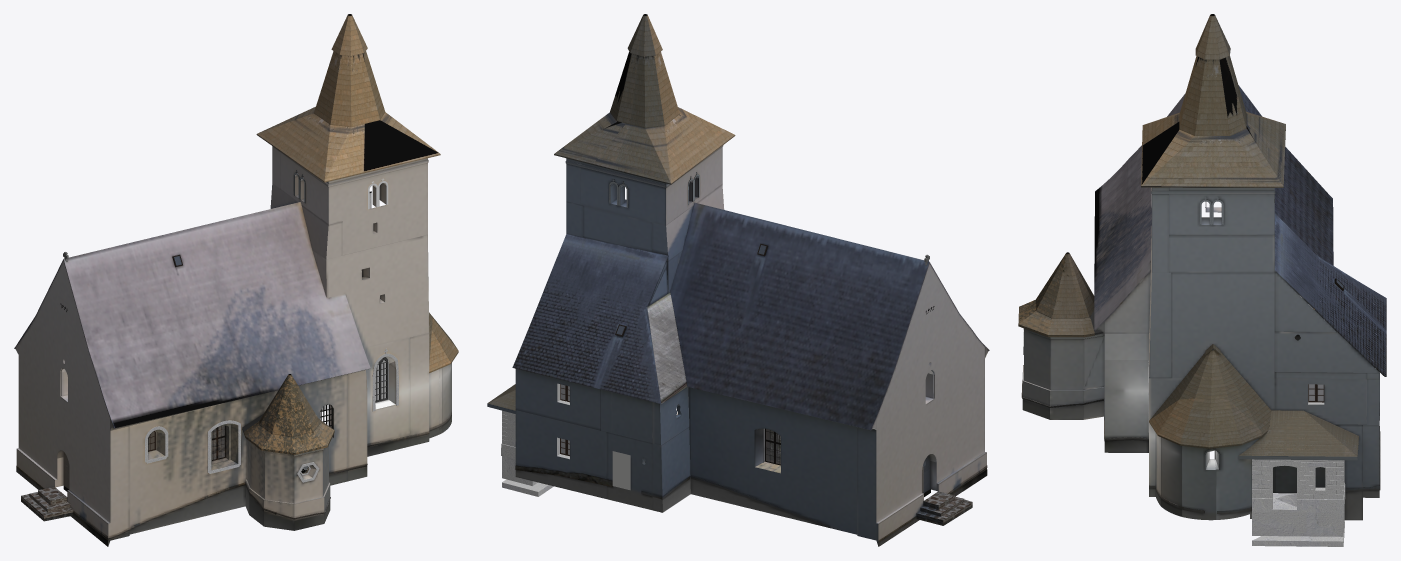
The picture shows the model from 3 angles, left to right: view 1: azimuth 30°, elevation 25°; view 2: azimuth 150°, elevation 25°; view 3: azimuth 270°, elevation 25°; orthographic projection. The views are drawn at different scales.
Visible parts, largest first — view 1: Fasada, Basic Roof _Obecná plochá střecha 60 asfaltová [1240019], Basic Roof _Obecná plochá střecha 50 dřevěná [1138108], Basic Roof _Obecná plochá střecha 50 dřevěná [1138109], Basic Roof _Obecná plochá střecha 100 dřevěná [851158], Basic Roof _Obecná plochá střecha 100 dřevěná [843459], Podezdivka, Basic Wall _Obecná stěna nosná 1200 [552238], Vstupní kamenné schodiště Vstupní kamenné schodiště [888075], Basic Roof _Obecná plochá střecha 50 dřevěná [929359], Basic Roof _Obecná plochá střecha 50 dřevěná [1138110], Hlavni loď - okno_01, otvor, vpravo Hlavni loď - okno_01, ot; view 2: Fasada, Basic Roof _Obecná plochá střecha 60 asfaltová [1240019], Basic Roof _Obecná plochá střecha 60 asfaltová [1167460], Basic Roof _Obecná plochá střecha 50 dřevěná [1138108], Basic Roof _Obecná plochá střecha 50 dřevěná [1138109], Basic Roof _Obecná plochá střecha 60 asfaltová [1168498], Podezdivka, Vstupní kamenné schodiště Vstupní kamenné schodiště [888075], Basic Wall _Obecná stěna nosná 350 - vchod hrobka [664115], Basic Roof _Obecná plochá střecha 50 dřevěná [1138110], Basic Wall _Obecná stěna nosná 720 [1011005]; view 3: Fasada, Basic Roof _Obecná plochá střecha 60 asfaltová [1240019], Basic Roof _Obecná plochá střecha 50 dřevěná [1138108], Basic Roof _Obecná plochá střecha 50 dřevěná [929359], Basic Roof _Obecná plochá střecha 60 asfaltová [1167460], Basic Wall _Obecná stěna nosná 350 - vchod hrobka [664115], Basic Roof _Obecná plochá střecha 200 [764339], Basic Roof _Obecná plochá střecha 50 dřevěná [1138109], Basic Roof _Obecná plochá střecha 100 dřevěná [851158], Basic Roof _Obecná plochá střecha 100 dřevěná [843459], Basic Roof _Obecná plochá střecha 50 dřevěná [1138110], Podezdivka (+1 smaller).
Part boxes in pixels (<box>): Fasada: <box>15,146,451,546</box>; Basic Roof _Obecná plochá střecha 60 asfaltová [1240019]: <box>14,202,370,428</box>; Basic Roof _Obecná plochá střecha 50 dřevěná [1138108]: <box>256,106,440,182</box>; Basic Roof _Obecná plochá střecha 50 dřevěná [1138109]: <box>314,51,385,127</box>; Basic Roof _Obecná plochá střecha 100 dřevěná [851158]: <box>259,374,320,436</box>; Basic Roof _Obecná plochá střecha 100 dřevěná [843459]: <box>244,418,334,454</box>; Podezdivka: <box>16,412,451,546</box>; Basic Wall _Obecná stěna nosná 1200 [552238]: <box>63,405,333,491</box>; Vstupní kamenné schodiště Vstupní kamenné schodiště [888075]: <box>21,487,73,521</box>; Basic Roof _Obecná plochá střecha 50 dřevěná [929359]: <box>429,312,458,373</box>; Basic Roof _Obecná plochá střecha 50 dřevěná [1138110]: <box>331,14,367,56</box>; Hlavni loď - okno_01, otvor, vpravo Hlavni loď - okno_01, ot: <box>207,420,240,473</box>; Fasada: <box>515,145,988,546</box>; Basic Roof _Obecná plochá střecha 60 asfaltová [1240019]: <box>670,202,989,430</box>; Basic Roof _Obecná plochá střecha 60 asfaltová [1167460]: <box>512,234,668,403</box>; Basic Roof _Obecná plochá střecha 50 dřevěná [1138108]: <box>554,107,735,184</box>; Basic Roof _Obecná plochá střecha 50 dřevěná [1138109]: <box>610,51,679,127</box>; Basic Roof _Obecná plochá střecha 60 asfaltová [1168498]: <box>647,292,687,403</box>; Podezdivka: <box>515,465,987,546</box>; Vstupní kamenné schodiště Vstupní kamenné schodiště [888075]: <box>916,491,972,525</box>; Basic Wall _Obecná stěna nosná 350 - vchod hrobka [664115]: <box>501,410,537,485</box>; Basic Roof _Obecná plochá střecha 50 dřevěná [1138110]: <box>627,14,662,56</box>; Basic Wall _Obecná stěna nosná 720 [1011005]: <box>612,451,630,490</box>; Fasada: <box>1022,187,1379,520</box>; Basic Roof _Obecná plochá střecha 60 asfaltová [1240019]: <box>1094,85,1333,330</box>; Basic Roof _Obecná plochá střecha 50 dřevěná [1138108]: <box>1141,111,1285,187</box>; Basic Roof _Obecná plochá střecha 50 dřevěná [929359]: <box>1149,350,1271,448</box>; Basic Roof _Obecná plochá střecha 60 asfaltová [1167460]: <box>1274,213,1386,376</box>; Basic Wall _Obecná stěna nosná 350 - vchod hrobka [664115]: <box>1252,459,1345,536</box>; Basic Roof _Obecná plochá střecha 200 [764339]: <box>1238,410,1358,460</box>; Basic Roof _Obecná plochá střecha 50 dřevěná [1138109]: <box>1179,56,1246,135</box>; Basic Roof _Obecná plochá střecha 100 dřevěná [851158]: <box>1036,252,1094,318</box>; Basic Roof _Obecná plochá střecha 100 dřevěná [843459]: <box>1018,299,1094,337</box>; Basic Roof _Obecná plochá střecha 50 dřevěná [1138110]: <box>1195,14,1230,59</box>; Podezdivka: <box>1021,380,1380,513</box>.
Bounding box in the file's own units: 2.6 × 2.68 × 1.83.
Materials: 32 (28 with a texture image).
